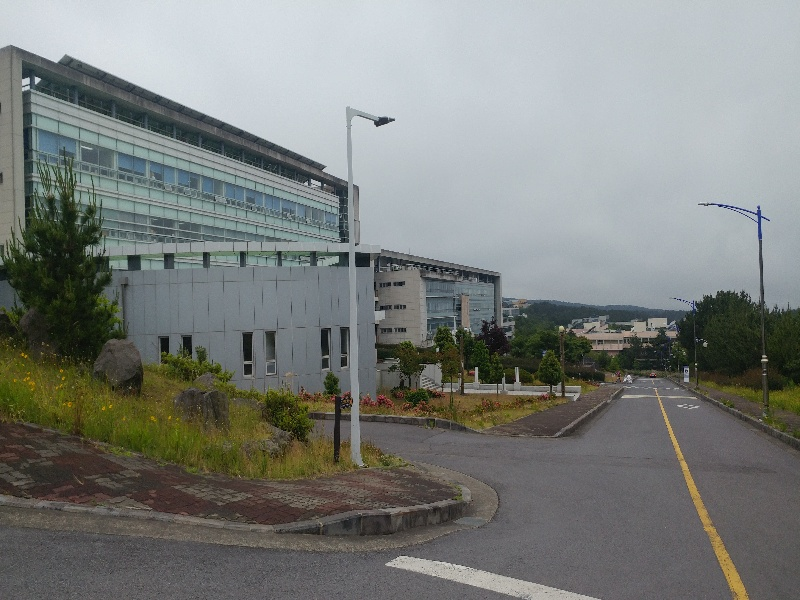College Of Education: (578, 329, 676, 362)
College of Marine Science: (4, 62, 360, 352), (136, 110, 349, 383)
Engineering College Building 4: (379, 254, 510, 350)
